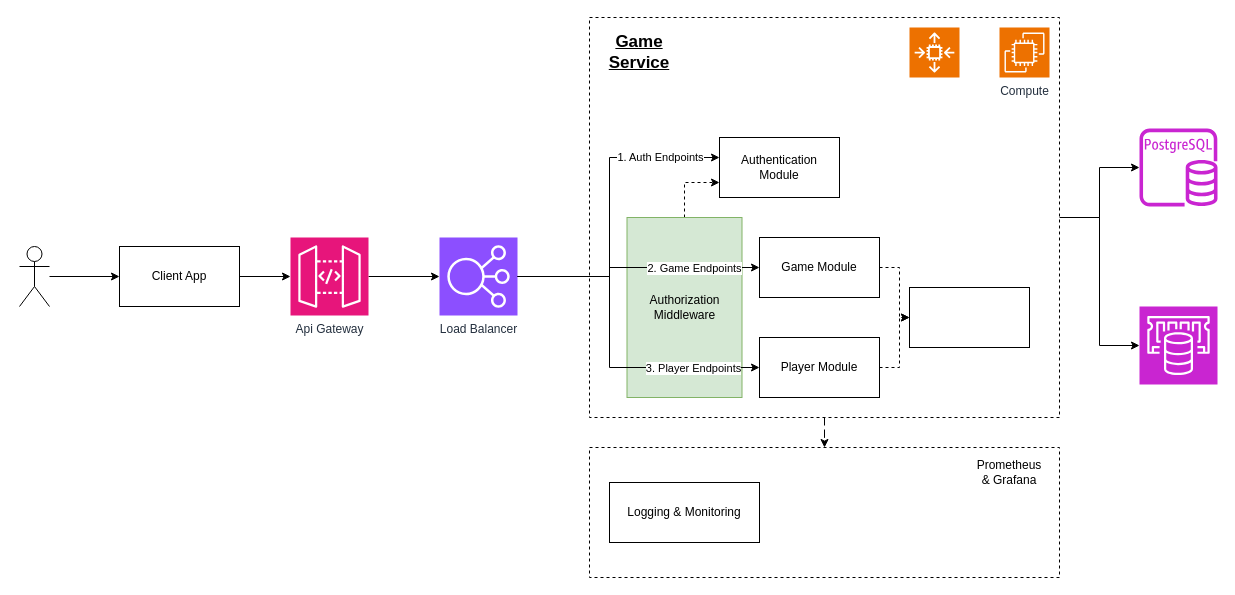
The diagram is 1235 pixels wide and 595 high, and some of its shapes have lost their labels. Here are the shapes that lost their labels. From the top down, the box of each, then its label:
(908, 26, 960, 78): Auto Scaling Group
(18, 246, 50, 306): Player
(908, 286, 1030, 348): Treasure Module
(1138, 306, 1218, 384): Cache
